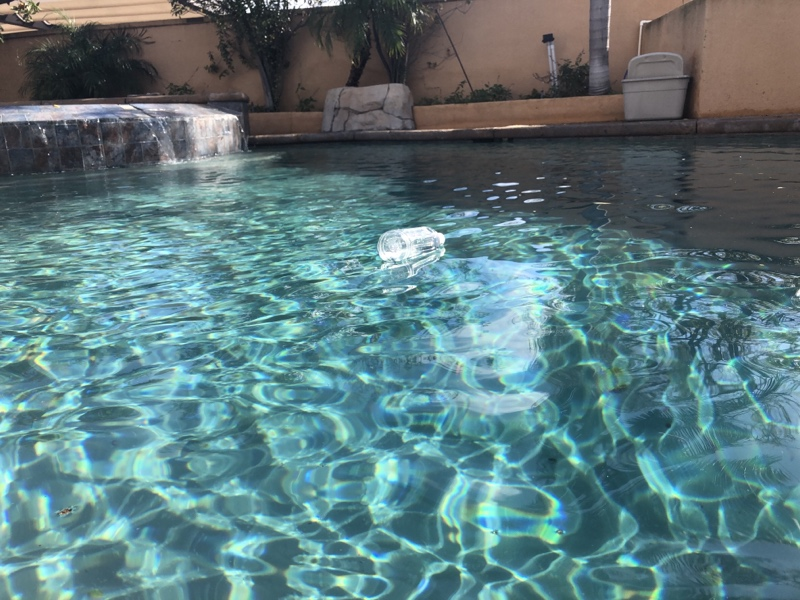Plastic Bottle: (372, 224, 451, 264)
